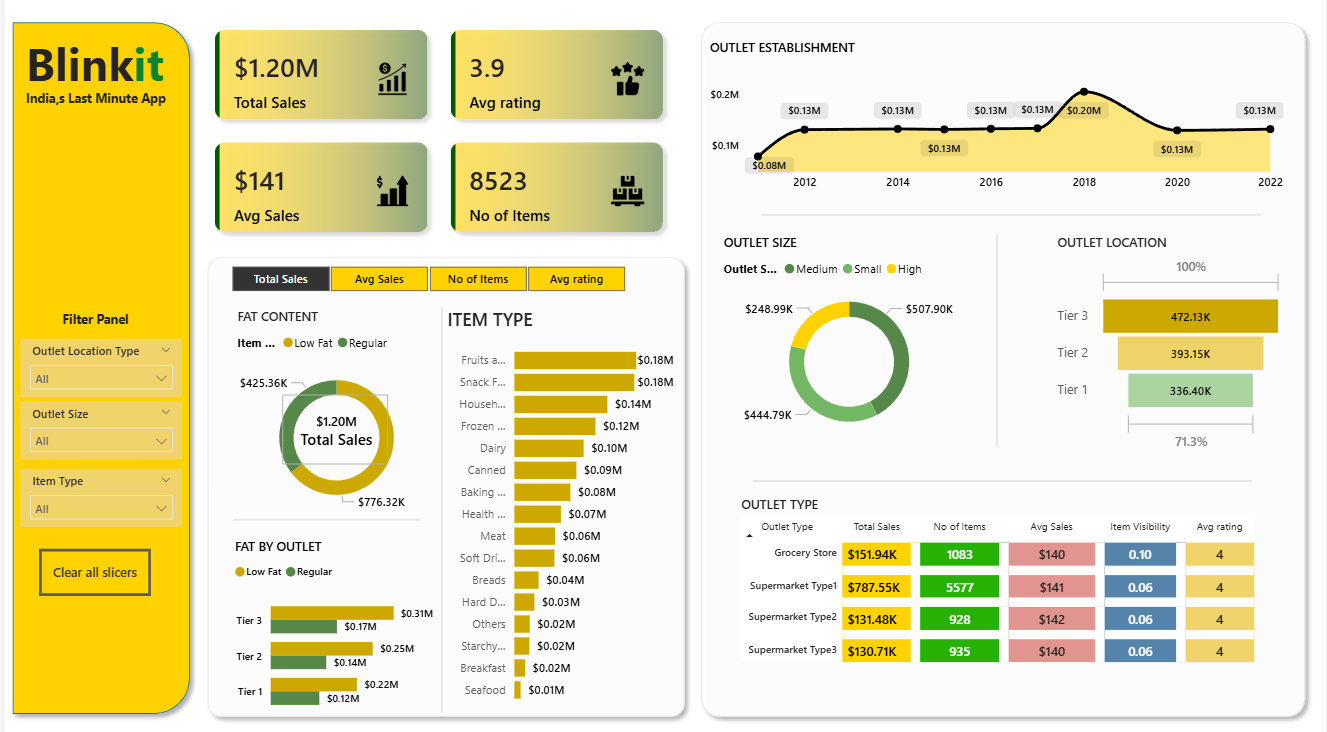

What the dashboard file says about the page in this screenshot:
{"tool":"powerbi","page":{"name":"Page 1","canvas":[1400,800],"ordinal":0},"visuals":[{"type":"shape","box":[0,25.7,205.7,750],"z":0},{"type":"textbox","box":[10,40,171.4,78.6],"z":1000},{"type":"textbox","box":[0,100,194.3,37.1],"z":2000},{"type":"cardVisual","fields":{"Data":["BlinkIT Grocery Data.Total Sales","BlinkIT Grocery Data.Avg rating","BlinkIT Grocery Data.Avg Sales","BlinkIT Grocery Data.No of Items"]},"box":[205.7,25.7,508.6,248.6],"z":3000},{"type":"shape","box":[205.7,274.3,522.9,504.3],"z":4000},{"type":"donutChart","title":"FAT CONTENT","fields":{"Y":["BlinkIT Grocery Data.Total Sales"],"Category":["BlinkIT Grocery Data.Item Fat Content"]},"box":[241.4,335.7,220,230],"z":5000},{"type":"slicer","fields":{"Values":["Metrics.Metrics"]},"box":[215.7,285.7,465.7,40],"z":6000},{"type":"cardVisual","fields":{"Data":["BlinkIT Grocery Data.Total Sales"]},"box":[290,422.9,122.9,84.3],"z":7000},{"type":"clusteredBarChart","title":"FAT BY OUTLET","fields":{"Y":["BlinkIT Grocery Data.Total Sales"],"Category":["BlinkIT Grocery Data.Outlet Location Type"],"Series":["BlinkIT Grocery Data.Item Fat Content"]},"box":[240,580,220,198.6],"z":8000},{"type":"shape","box":[241.4,555.7,198.6,10],"z":9000},{"type":"shape","box":[448.6,335.7,30,428.6],"z":10000},{"type":"barChart","title":"ITEM TYPE","fields":{"Y":["BlinkIT Grocery Data.Total Sales"],"Category":["BlinkIT Grocery Data.Item Type"]},"box":[464.3,335.7,250,428.6],"z":11000},{"type":"shape","box":[728.6,25.7,657.1,752.9],"z":12000},{"type":"lineChart","title":"OUTLET ESTABLISHMENT","fields":{"Y":["BlinkIT Grocery Data.Total Sales"],"Category":["BlinkIT Grocery Data.Outlet Establishment Year"]},"box":[741.4,51.4,617.1,170],"z":13000},{"type":"donutChart","title":"OUTLET SIZE","fields":{"Y":["BlinkIT Grocery Data.Total Sales"],"Category":["BlinkIT Grocery Data.Outlet Size"]},"box":[757.1,258.6,275.7,225.7],"z":14000},{"type":"shape","box":[1035.7,258.6,30,225.7],"z":15000},{"type":"funnel","title":"OUTLET LOCATION","fields":{"Y":["Sum(BlinkIT Grocery Data.Sales)"],"Category":["BlinkIT Grocery Data.Outlet Location Type"]},"box":[1110,258.6,248.6,235.7],"z":16000},{"type":"shape","box":[792.9,512.9,528.6,12.9],"z":17000},{"type":"pivotTable","title":"OUTLET TYPE","fields":{"Rows":["BlinkIT Grocery Data.Outlet Type"],"Values":["BlinkIT Grocery Data.Total Sales","BlinkIT Grocery Data.No of Items","BlinkIT Grocery Data.Avg Sales","Avg(BlinkIT Grocery Data.Item Visibility)","BlinkIT Grocery Data.Avg rating"]},"box":[775.7,534.3,554.3,212.9],"z":18000},{"type":"shape","box":[801.4,231.4,528.6,12.9],"z":19000},{"type":"slicer","fields":{"Values":["BlinkIT Grocery Data.Outlet Location Type"]},"box":[17.1,368.6,171.4,61.4],"z":20000},{"type":"slicer","fields":{"Values":["BlinkIT Grocery Data.Outlet Size"]},"box":[17.1,435.7,171.4,61.4],"z":21000},{"type":"slicer","fields":{"Values":["BlinkIT Grocery Data.Item Type"]},"box":[17.1,507.1,171.4,61.4],"z":22000},{"type":"textbox","box":[38.6,334.3,117.1,37.1],"z":23000},{"type":"actionButton","box":[37.1,591.4,118.6,50],"z":24000}]}

Visuals, with their boxes on the page's 1400x800 design canvas (x1, y1, x2, y2). These are canvas units, not pixel positions in the 1327x732 screenshot, which may show the page scaled, cropped or inside an application window:
shape: x1=0 y1=26 x2=206 y2=776
textbox: x1=10 y1=40 x2=181 y2=119
textbox: x1=0 y1=100 x2=194 y2=137
cardVisual - BlinkIT Grocery Data.Total Sales x BlinkIT Grocery Data.Avg rating: x1=206 y1=26 x2=714 y2=274
shape: x1=206 y1=274 x2=729 y2=779
"FAT CONTENT" donutChart: x1=241 y1=336 x2=461 y2=566
slicer - Metrics.Metrics: x1=216 y1=286 x2=681 y2=326
cardVisual - BlinkIT Grocery Data.Total Sales: x1=290 y1=423 x2=413 y2=507
"FAT BY OUTLET" clusteredBarChart: x1=240 y1=580 x2=460 y2=779
shape: x1=241 y1=556 x2=440 y2=566
shape: x1=449 y1=336 x2=479 y2=764
"ITEM TYPE" barChart: x1=464 y1=336 x2=714 y2=764
shape: x1=729 y1=26 x2=1386 y2=779
"OUTLET ESTABLISHMENT" lineChart: x1=741 y1=51 x2=1358 y2=221
"OUTLET SIZE" donutChart: x1=757 y1=259 x2=1033 y2=484
shape: x1=1036 y1=259 x2=1066 y2=484
"OUTLET LOCATION" funnel: x1=1110 y1=259 x2=1359 y2=494
shape: x1=793 y1=513 x2=1322 y2=526
"OUTLET TYPE" pivotTable: x1=776 y1=534 x2=1330 y2=747
shape: x1=801 y1=231 x2=1330 y2=244
slicer - BlinkIT Grocery Data.Outlet Location Type: x1=17 y1=369 x2=188 y2=430
slicer - BlinkIT Grocery Data.Outlet Size: x1=17 y1=436 x2=188 y2=497
slicer - BlinkIT Grocery Data.Item Type: x1=17 y1=507 x2=188 y2=568
textbox: x1=39 y1=334 x2=156 y2=371
actionButton: x1=37 y1=591 x2=156 y2=641
